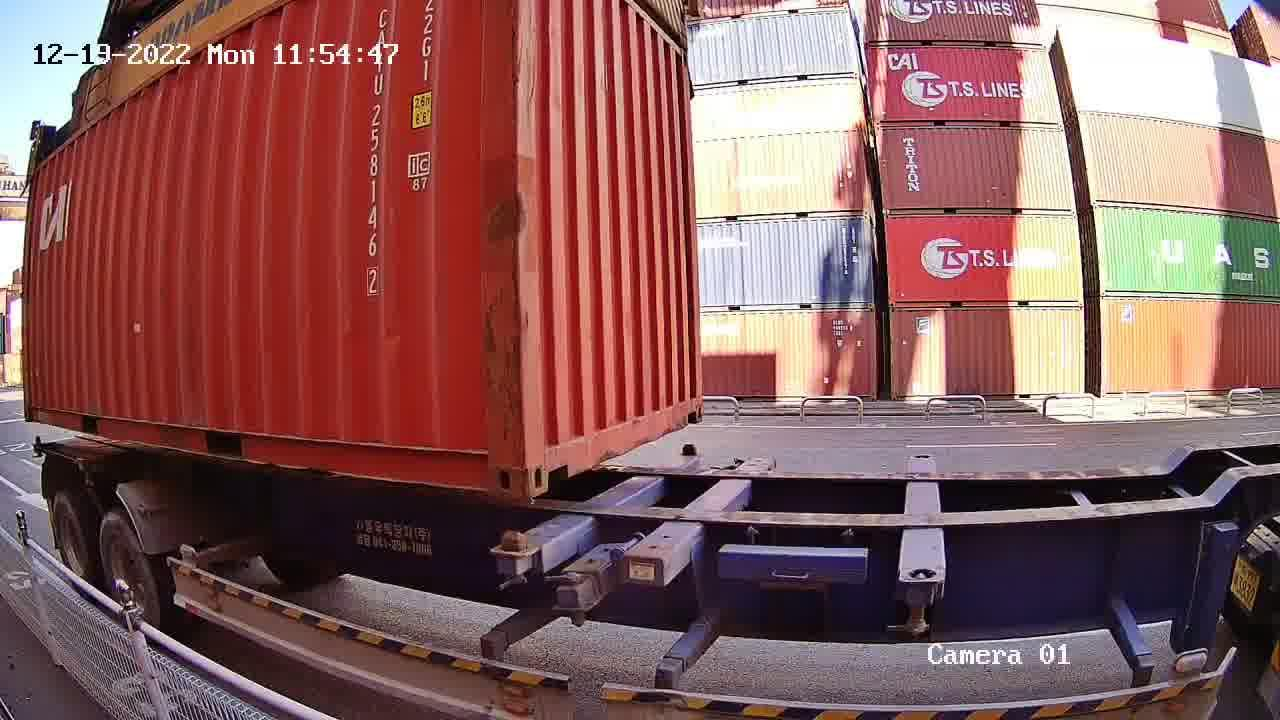Chassis: (493, 454, 701, 581)
Cone: (494, 531, 532, 594), (673, 442, 702, 457)
Hole_L: (526, 422, 574, 499)
Hole_R: (459, 439, 523, 500), (676, 379, 705, 430)
Tire: (99, 515, 158, 622), (52, 493, 95, 582)
